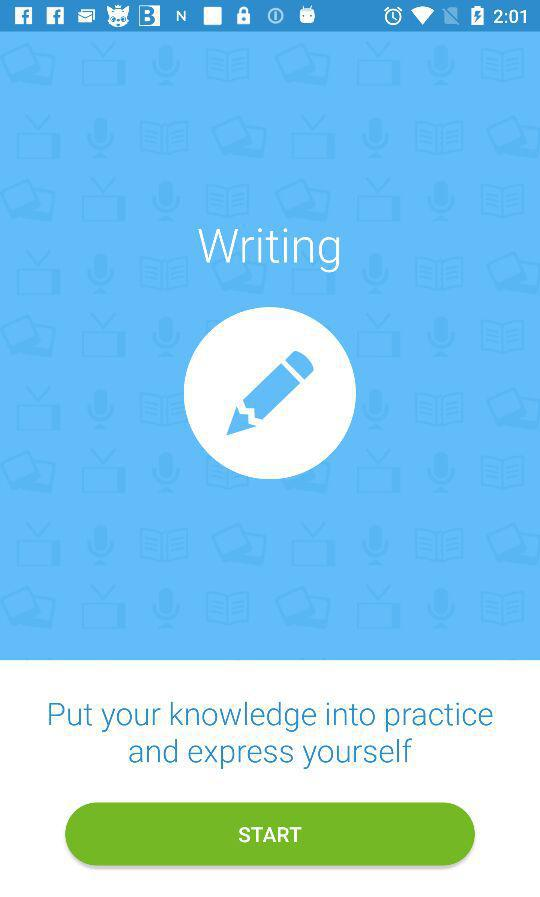Image: (184, 307, 357, 481)
Text: (49, 702, 494, 770), (197, 227, 341, 275)
TextButton: (65, 802, 475, 867)
UpperTaskBar: (1, 1, 540, 33)
